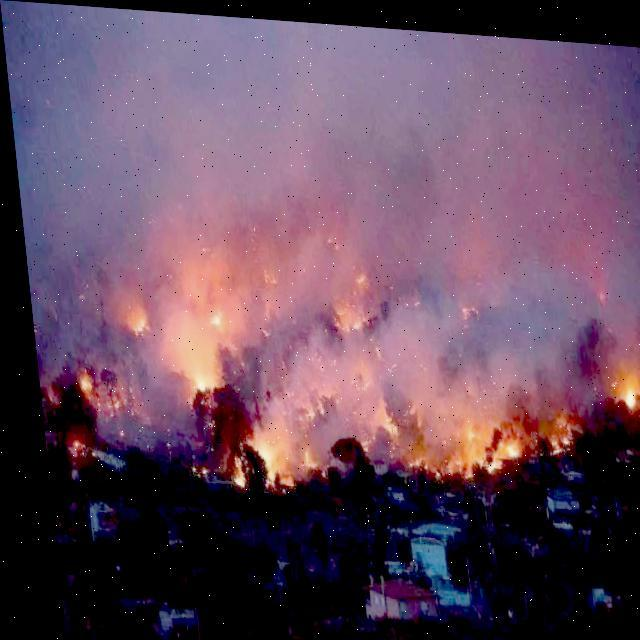Fire: (59, 191, 639, 509)
